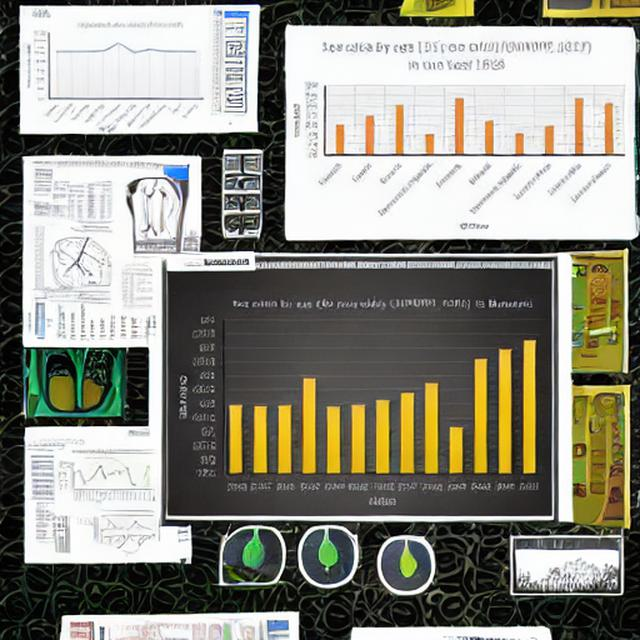Graph: (170, 289, 548, 516), (288, 34, 629, 235), (22, 19, 205, 130), (55, 451, 139, 509), (46, 301, 119, 344), (91, 513, 158, 554)
